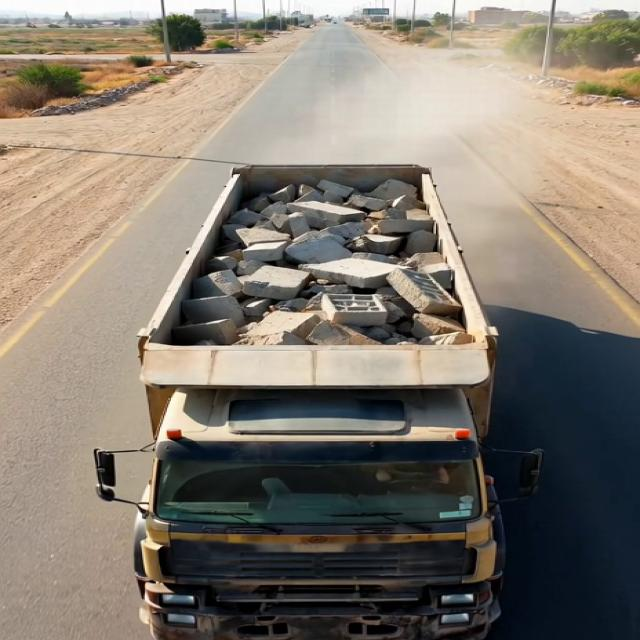Box: (134, 160, 488, 397)
Truck: (85, 150, 555, 640)
